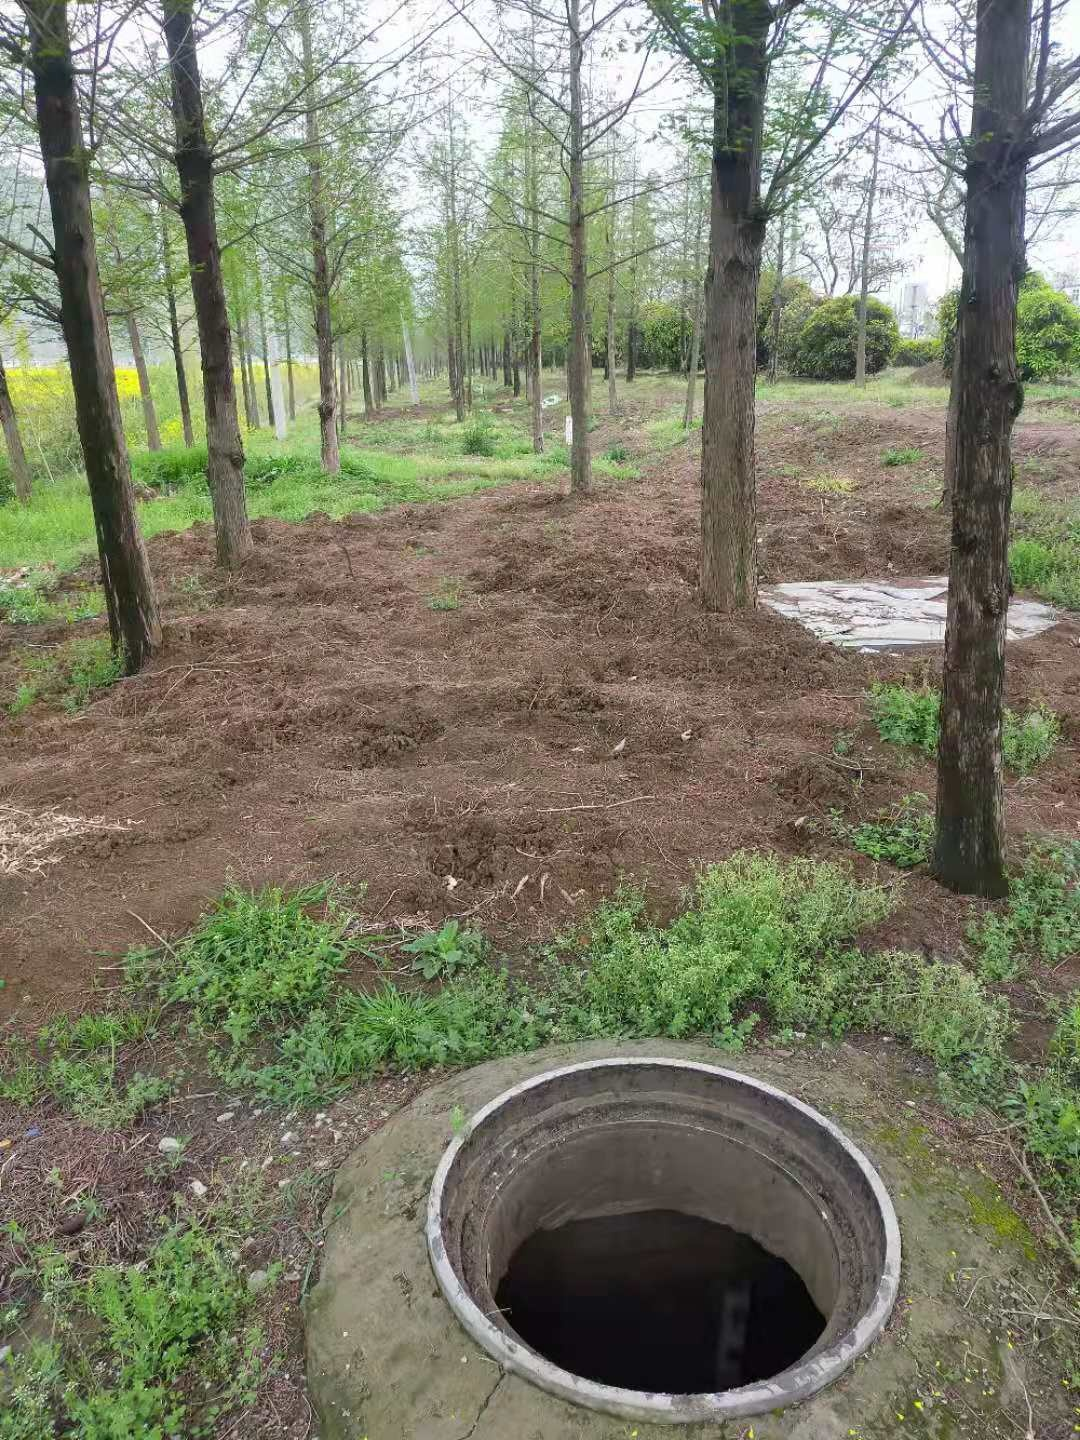lose: (421, 1057, 905, 1418)
